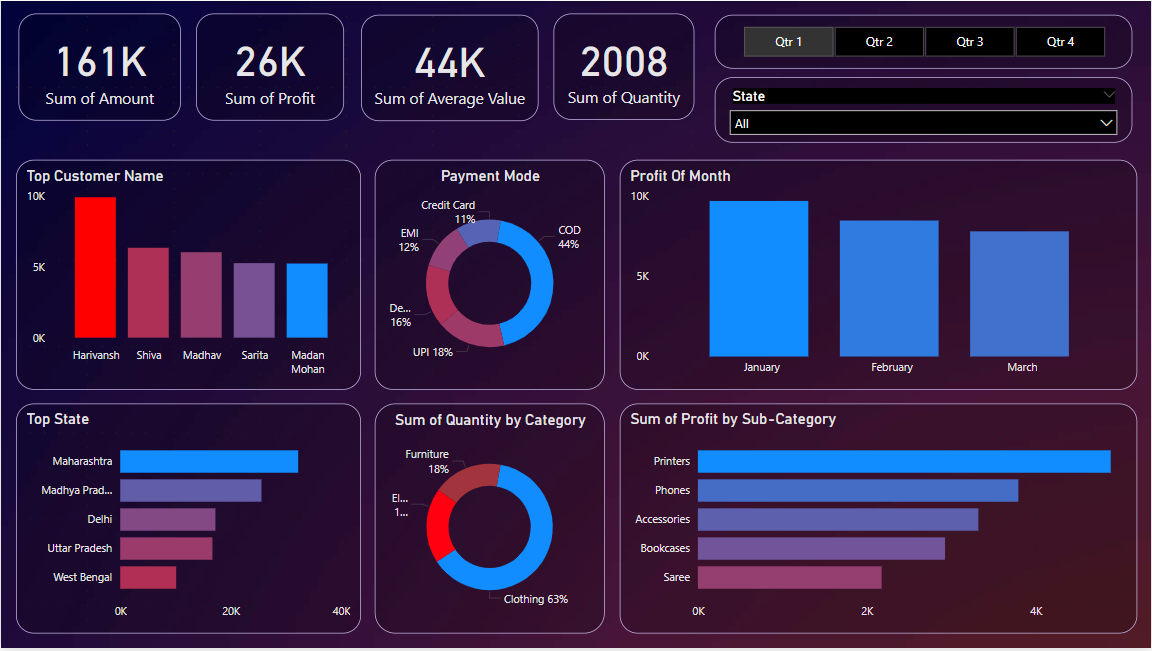

This screenshot's page, from the dashboard's own definition file:
{"tool":"powerbi","page":{"name":"Page 1","canvas":[1280,720],"ordinal":0},"visuals":[{"type":"columnChart","title":"Profit Of Month","fields":{"Y":["Details.Profit"],"Category":["Orders.Order Date.Variation.Date Hierarchy.Month"]},"box":[688,176,576,256],"z":0},{"type":"barChart","fields":{"Category":["Details.Sub-Category"],"Y":["Details.Profit"]},"box":[688,448,576,256],"z":1000},{"type":"donutChart","fields":{"Category":["Details.Category"],"Y":["Details.Quantity"]},"box":[416,448,256,256],"z":2000},{"type":"donutChart","title":"Payment Mode","fields":{"Category":["Details.PaymentMode"],"Y":["Details.Quantity"]},"box":[416,176,256,256],"z":3000},{"type":"card","fields":{"Values":["Details.Amount"]},"box":[19.2,13.7,181.1,119.4],"z":4000},{"type":"card","fields":{"Values":["Details.Profit"]},"box":[216.8,13.7,164.7,119.4],"z":5000},{"type":"card","fields":{"Values":["Details.Quantity"]},"box":[614.8,13.7,156.4,118],"z":6000},{"type":"card","fields":{"Values":["Details.Average Value"]},"box":[400.7,15.1,197.6,118],"z":7000},{"type":"barChart","title":"Top State","fields":{"Category":["Orders.State"],"Y":["Details.Amount"]},"box":[16,448,384,256],"z":8000},{"type":"clusteredColumnChart","title":"Top Customer Name","fields":{"Category":["Orders.CustomerName"],"Y":["Details.Amount"]},"box":[16,176,384,256],"z":9000},{"type":"slicer","fields":{"Values":["Orders.Order Date.Variation.Date Hierarchy.Quarter"]},"box":[794.5,15.1,465.2,60.4],"z":10000},{"type":"slicer","fields":{"Values":["Orders.State"]},"box":[794.5,85.1,465.2,72.7],"z":11000}]}

Visuals, with their boxes in screenshot pixels (x1, y1, x2, y2), scaled from the page's 1280x720 canvas onto the 1152x651 screenshot:
"Profit Of Month" columnChart: (619, 159, 1138, 391)
barChart - Details.Sub-Category x Details.Profit: (619, 405, 1138, 637)
donutChart - Details.Category x Details.Quantity: (374, 405, 605, 637)
"Payment Mode" donutChart: (374, 159, 605, 391)
card - Details.Amount: (17, 12, 180, 120)
card - Details.Profit: (195, 12, 343, 120)
card - Details.Quantity: (553, 12, 694, 119)
card - Details.Average Value: (361, 14, 538, 120)
"Top State" barChart: (14, 405, 360, 637)
"Top Customer Name" clusteredColumnChart: (14, 159, 360, 391)
slicer - Orders.Order Date.Variation.Date Hierarchy.Quarter: (715, 14, 1134, 68)
slicer - Orders.State: (715, 77, 1134, 143)
